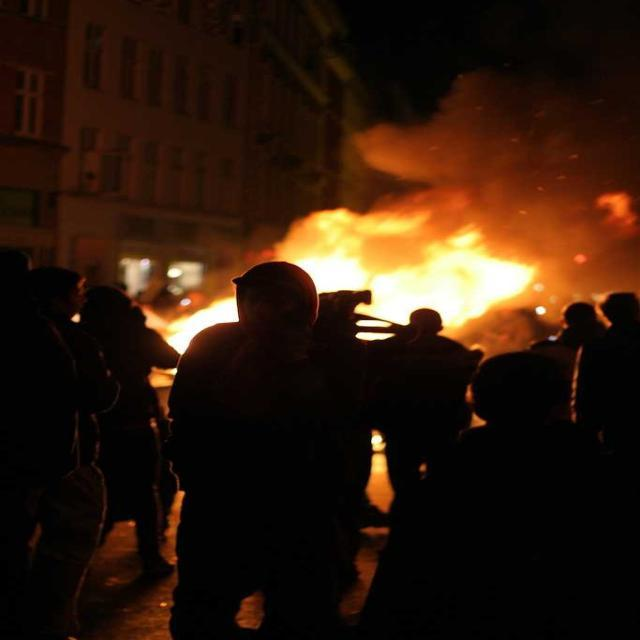Fire: (370, 256, 508, 325), (307, 217, 368, 286)
Smoke: (400, 82, 620, 212)
